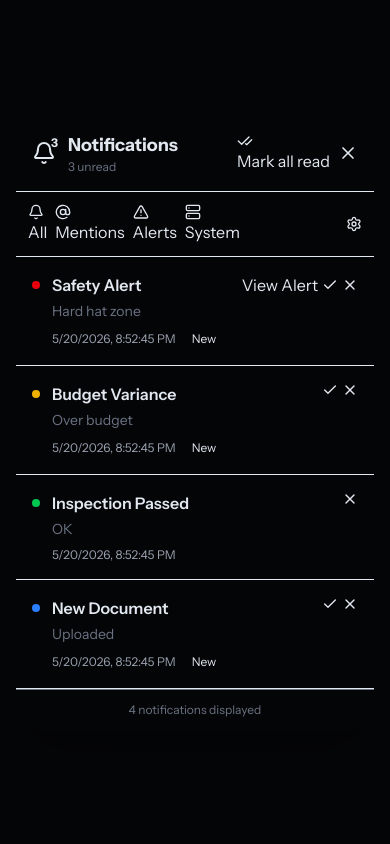
Scenario: NotificationCenter › marks single notification as read
Click the button named "Mark as read" next to "View Alert" at coordinates (330, 284), box [322,276,338,292]
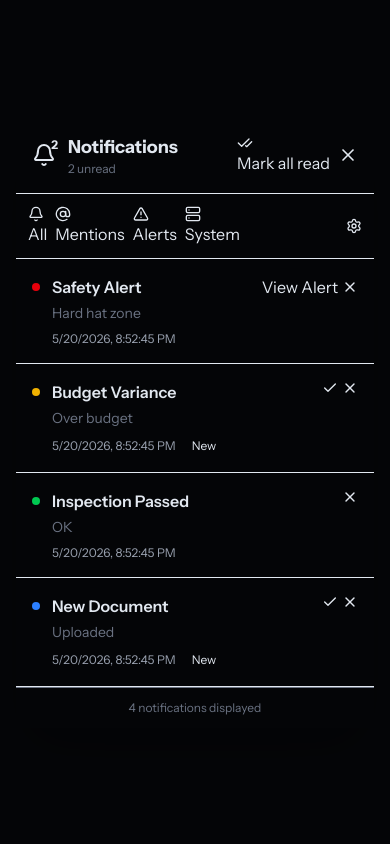
Expected: the text "2 unread" is shown, [68,160,116,176]
